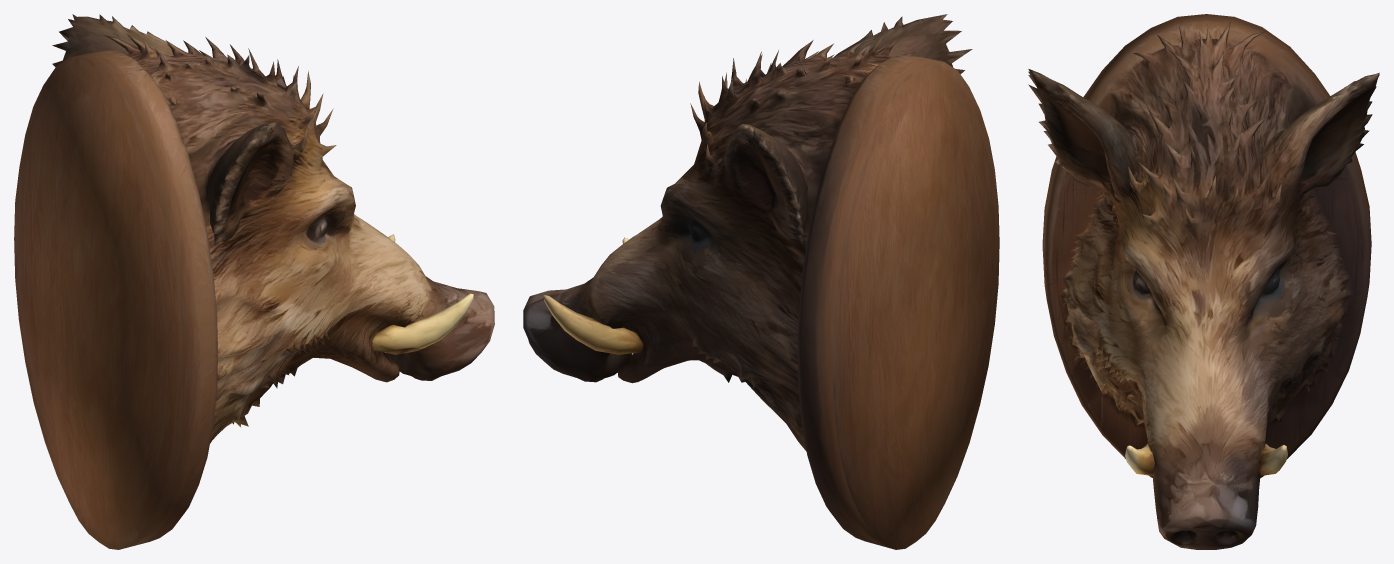
3 renders of one model, left to right at view 1: azimuth 30°, elevation 25°; view 2: azimuth 150°, elevation 25°; view 3: azimuth 270°, elevation 25°, orthographic. The views are drawn at different scales.
Parts seen in each view (by area): view 1: tripo_node_855f2ce5-81a5-4b1a-b87a-8c3bd27089ec; view 2: tripo_node_855f2ce5-81a5-4b1a-b87a-8c3bd27089ec; view 3: tripo_node_855f2ce5-81a5-4b1a-b87a-8c3bd27089ec.
Boxes of the visible parts, bbox=[...] form: tripo_node_855f2ce5-81a5-4b1a-b87a-8c3bd27089ec: bbox=[14, 14, 494, 549]; tripo_node_855f2ce5-81a5-4b1a-b87a-8c3bd27089ec: bbox=[523, 14, 999, 549]; tripo_node_855f2ce5-81a5-4b1a-b87a-8c3bd27089ec: bbox=[1028, 14, 1379, 549].
Size of the model in its own units: 0.8301 by 0.998 by 0.666.
1 material, 1 textured.
